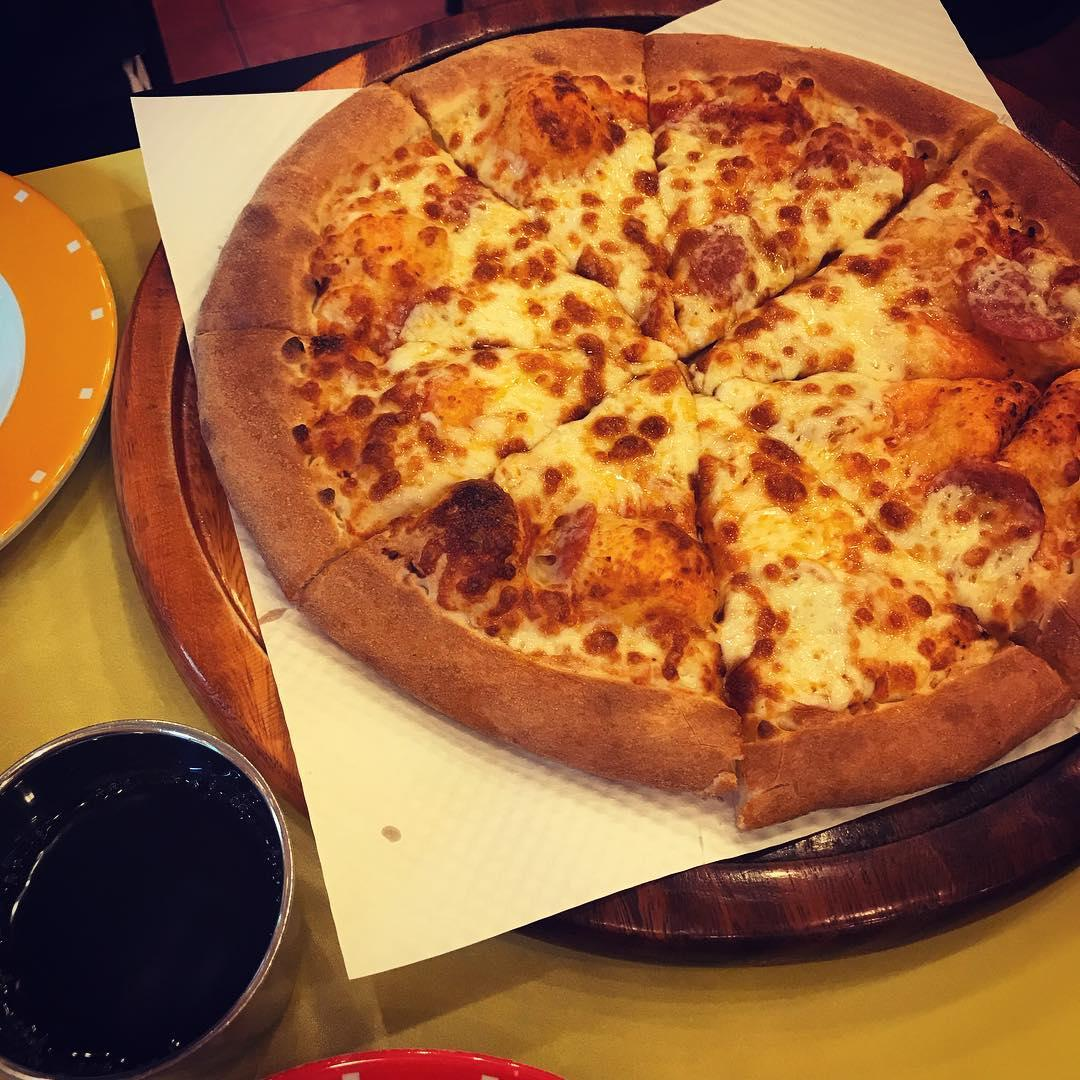Pepperoni: (934, 450, 1055, 600), (954, 242, 1073, 365), (668, 208, 780, 308), (526, 492, 598, 589)
Pizza: (195, 35, 1080, 813)
